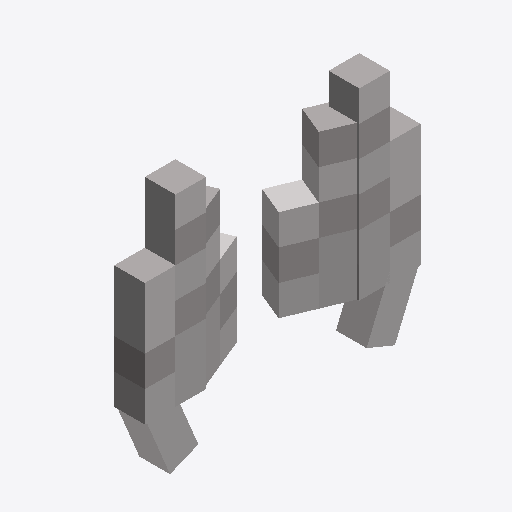
Isometric view (azimuth 45°, elevation 35.3°) of a Minecraft model made of 14 cuboids, textured from the same repository.
Parts seen in each view (by area): element 2, element 9, element 3, element 6, element 8, element 4, element 11, element 7, element 13, element 14, element 10, element 5 (+2 smaller).
Boxes of the visible parts, box(x1,y1,x2,y2) form: element 2: box(262, 180, 356, 317); element 9: box(114, 283, 205, 423); element 3: box(357, 159, 420, 300); element 6: box(302, 102, 356, 201); element 8: box(206, 233, 236, 384); element 4: box(336, 267, 417, 347); element 11: box(145, 213, 205, 300); element 7: box(329, 53, 389, 123); element 13: box(145, 159, 205, 229); element 14: box(114, 248, 174, 317); element 10: box(118, 404, 197, 473); element 5: box(357, 106, 389, 193).
Size of the model in its own units: 9 by 7.84 by 1.74.